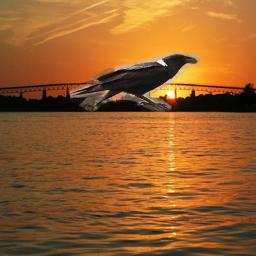Crow: (70, 52, 200, 112)
